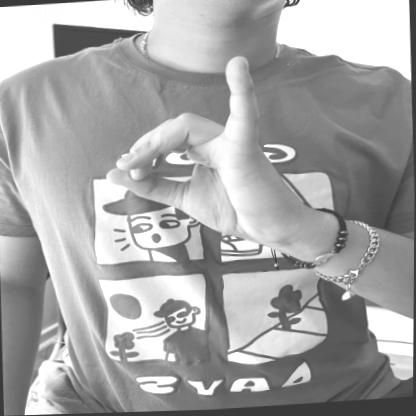D: (102, 50, 306, 247)
